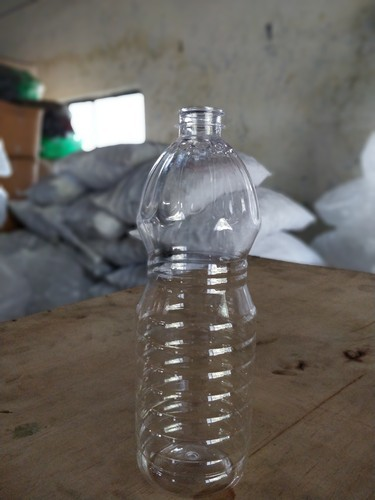bottle: (134, 104, 255, 500)
